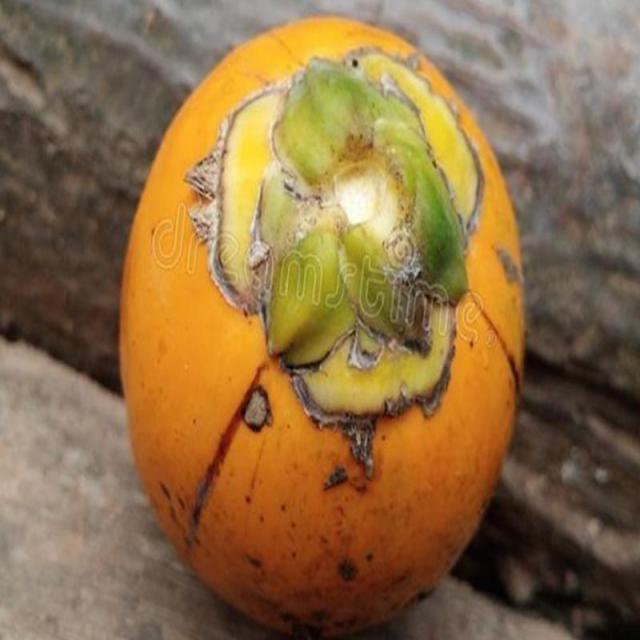good: (118, 15, 526, 639)
